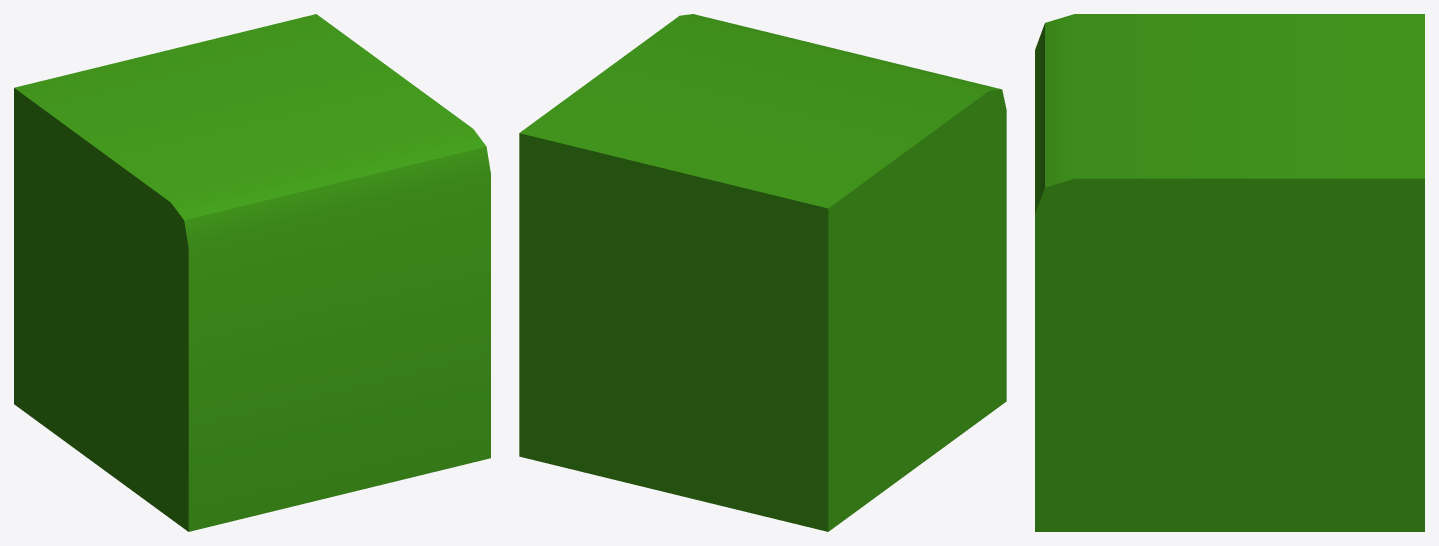
Rendered from OutsideFloorPiece.fbx.
3 renders of one model, left to right at view 1: azimuth 30°, elevation 25°; view 2: azimuth 150°, elevation 25°; view 3: azimuth 270°, elevation 25°, orthographic. The views are drawn at different scales.
Visible parts, largest first — view 1: OutsideFloorPiece; view 2: OutsideFloorPiece; view 3: OutsideFloorPiece.
Boxes of the visible parts, <box> form: OutsideFloorPiece: <box>14,14,490,531</box>; OutsideFloorPiece: <box>519,14,1006,531</box>; OutsideFloorPiece: <box>1035,14,1424,531</box>.
Bounding box in the file's own units: 39.5 × 39.5 × 39.5.
